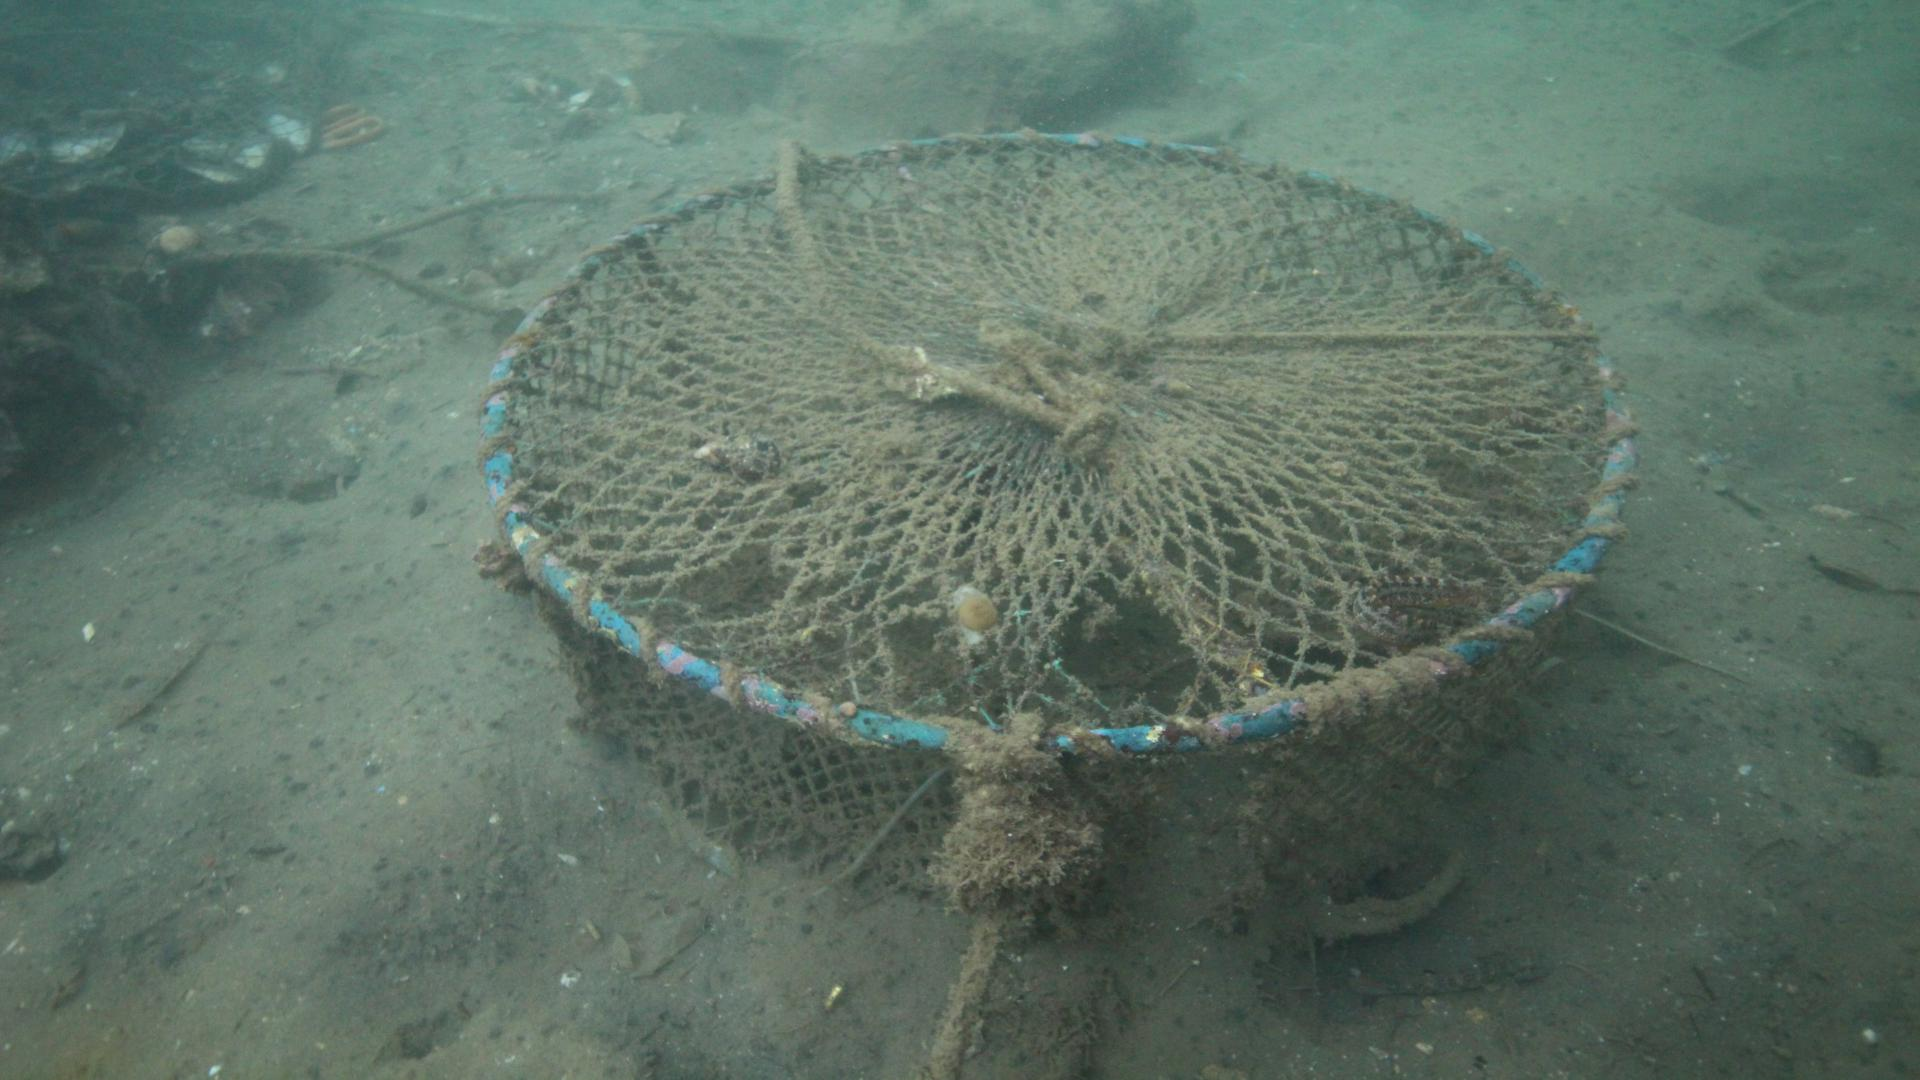circular fish trap: (483, 131, 1640, 923)
